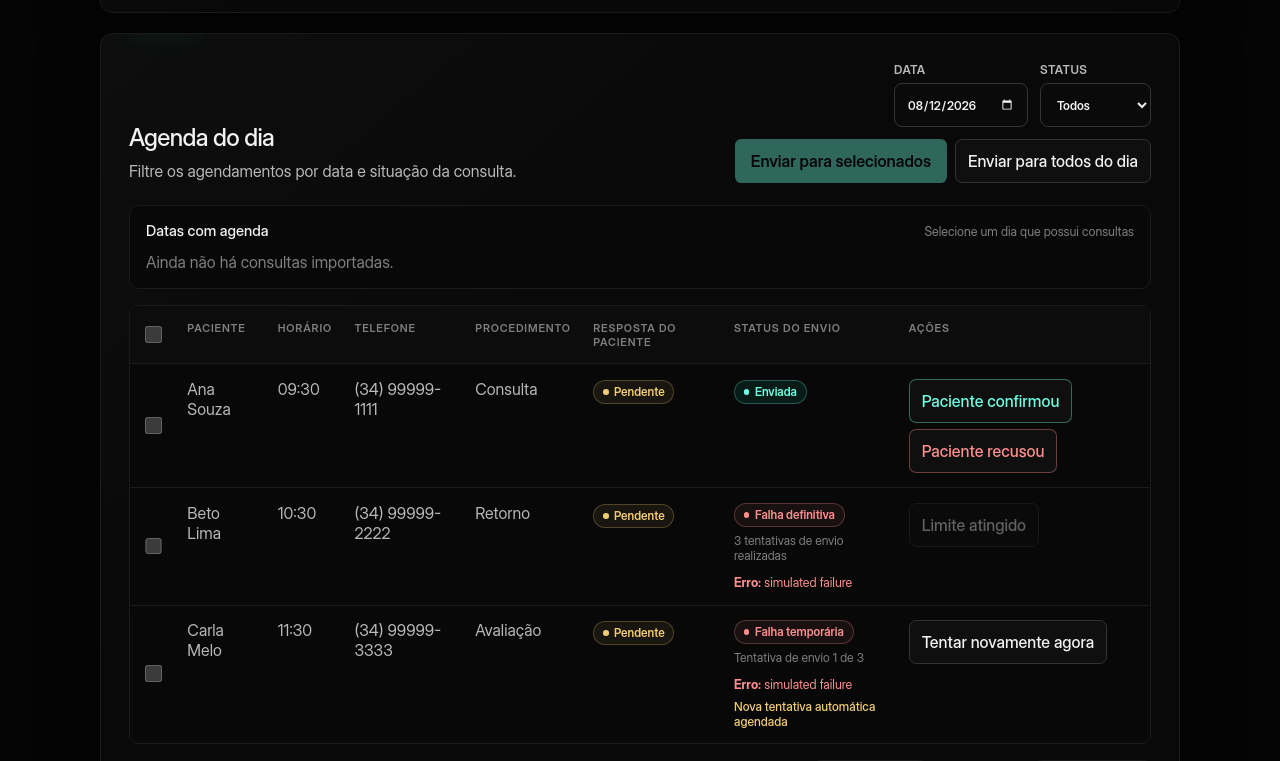
Test: records patient response with Paciente confirmou
This screenshot has width=1280, height=761.
(page scrolled)
Click the button "Paciente confirmou".
click(991, 401)  # box [909,379,1072,423]
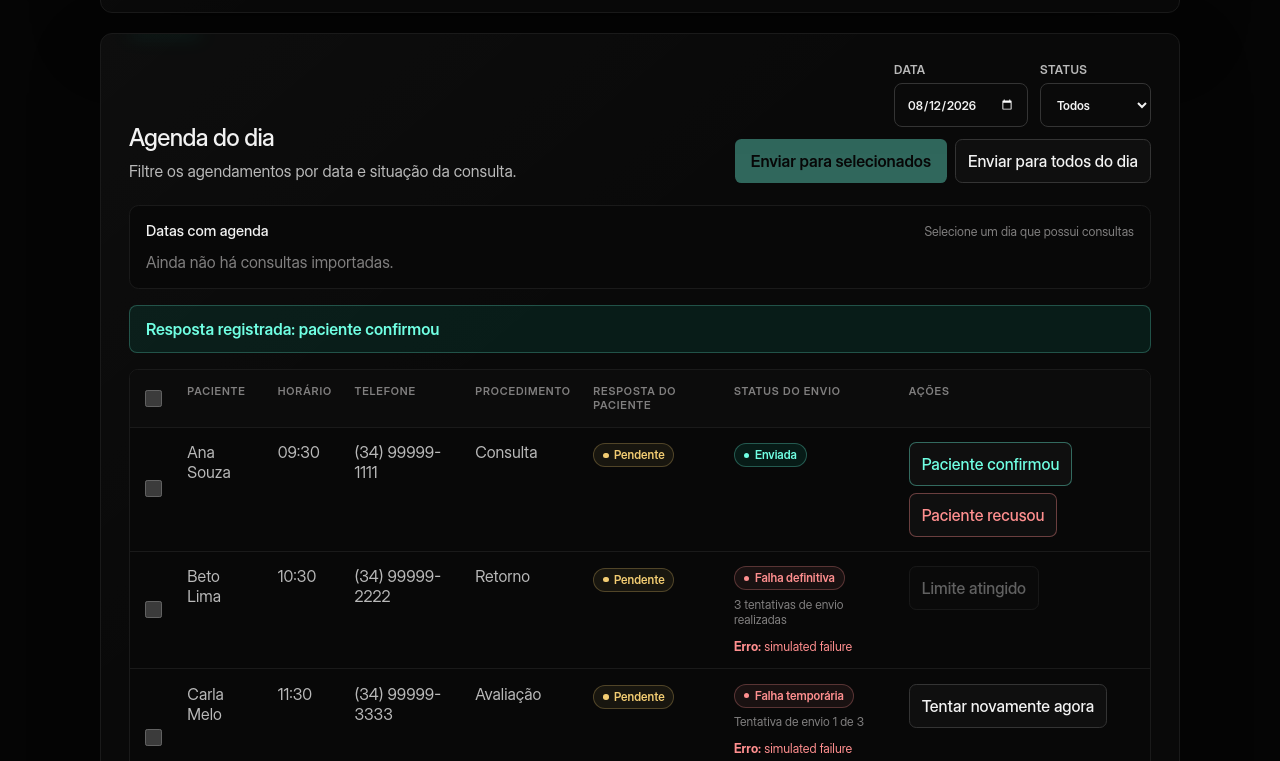
Now the text "Resposta registrada: paciente confirmou" is shown, box [129,305,1151,353]
